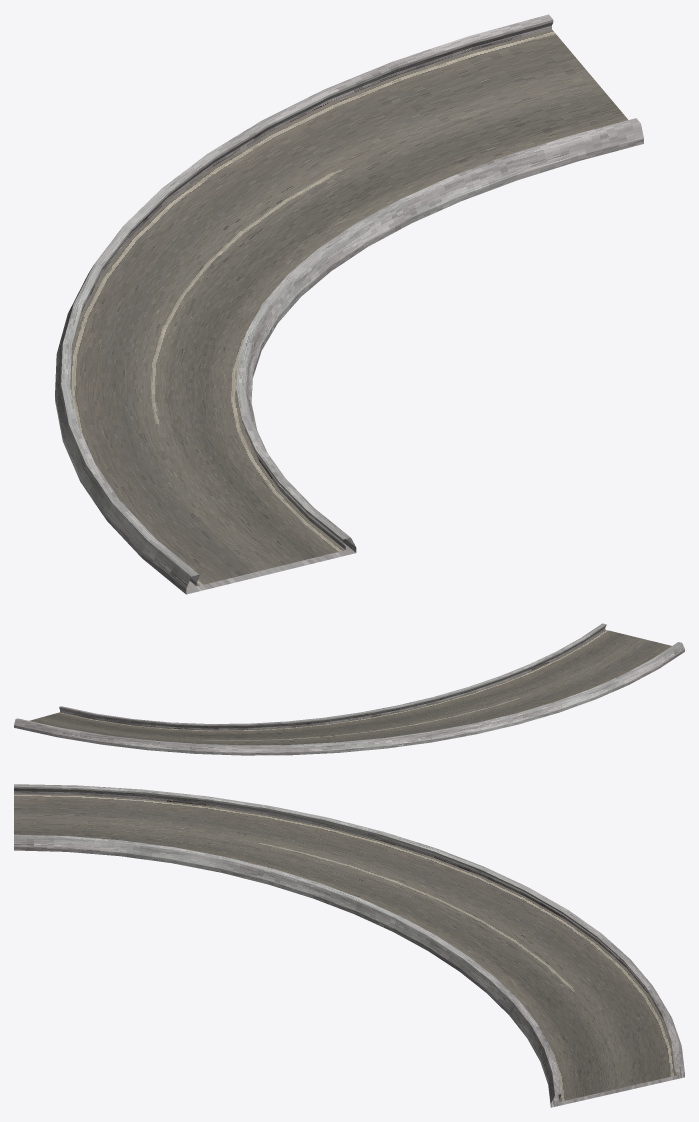
The model's file is road-Turn-Flat-HalfBankedRight-Down1-Right-Size5.glb.
The picture shows the model from 3 angles, top to bottom: view 1: azimuth 30°, elevation 25°; view 2: azimuth 150°, elevation 25°; view 3: azimuth 270°, elevation 25°; orthographic projection. The views are drawn at different scales.
Visible parts, largest first — view 1: road-Turn-Flat-HalfBankedRight-Down1-Right-Size5; view 2: road-Turn-Flat-HalfBankedRight-Down1-Right-Size5; view 3: road-Turn-Flat-HalfBankedRight-Down1-Right-Size5.
Part boxes in pixels (bbox=[...]): road-Turn-Flat-HalfBankedRight-Down1-Right-Size5: bbox=[55, 14, 643, 594]; road-Turn-Flat-HalfBankedRight-Down1-Right-Size5: bbox=[14, 623, 684, 755]; road-Turn-Flat-HalfBankedRight-Down1-Right-Size5: bbox=[14, 784, 684, 1107].
Size of the model in its own units: 5 by 0.3438 by 5.
2 materials, 2 textured.
